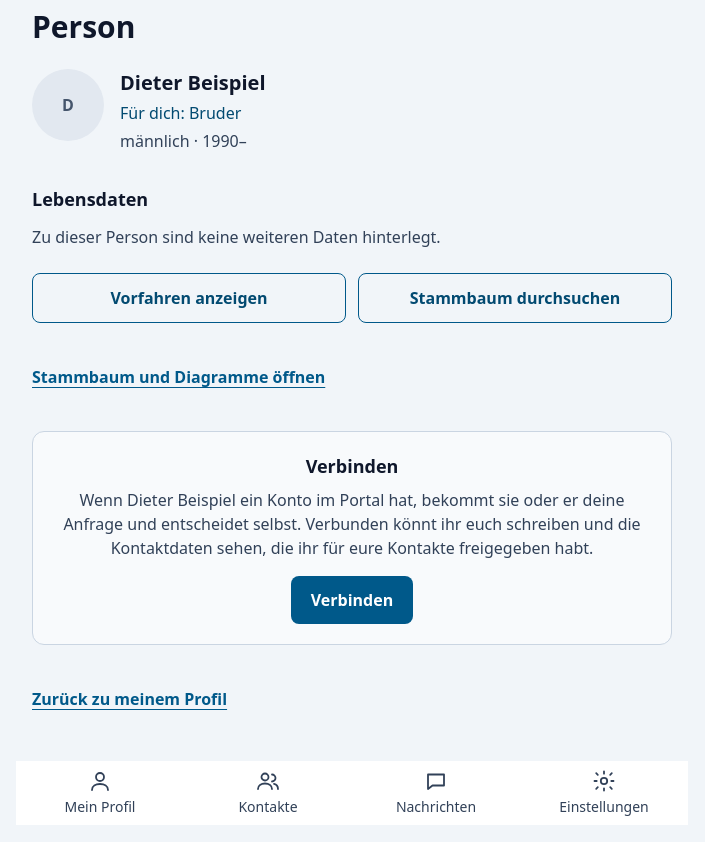
Test: connecting from a person’s page › names them where the server does
Click the button "Verbinden".
click(352, 600)  # box x1=291 y1=576 x2=413 y2=624
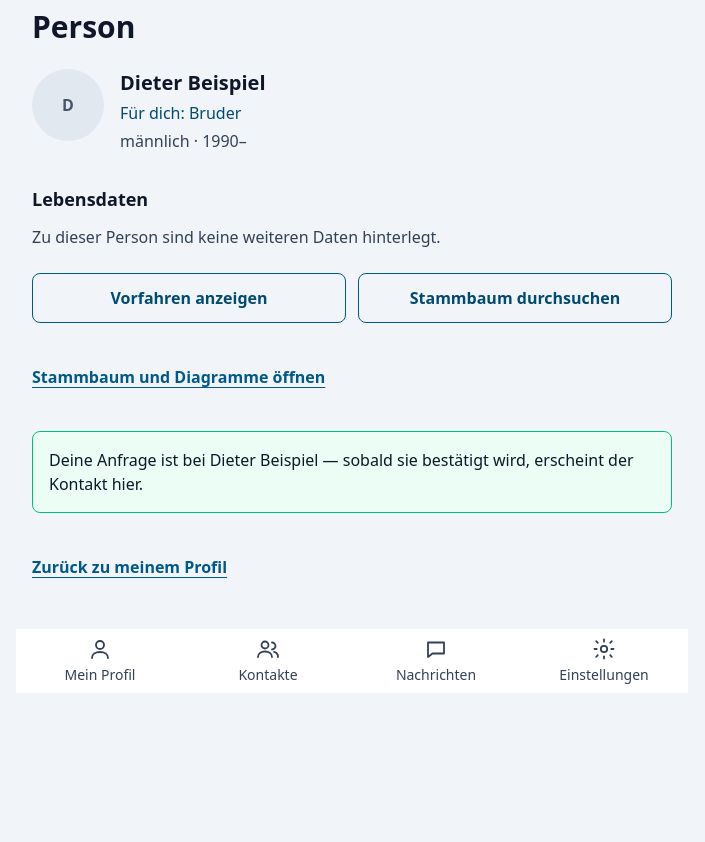
Expected: the text "Deine Anfrage ist bei Dieter Beispiel" is shown, x1=49 y1=449 x2=634 y2=495
